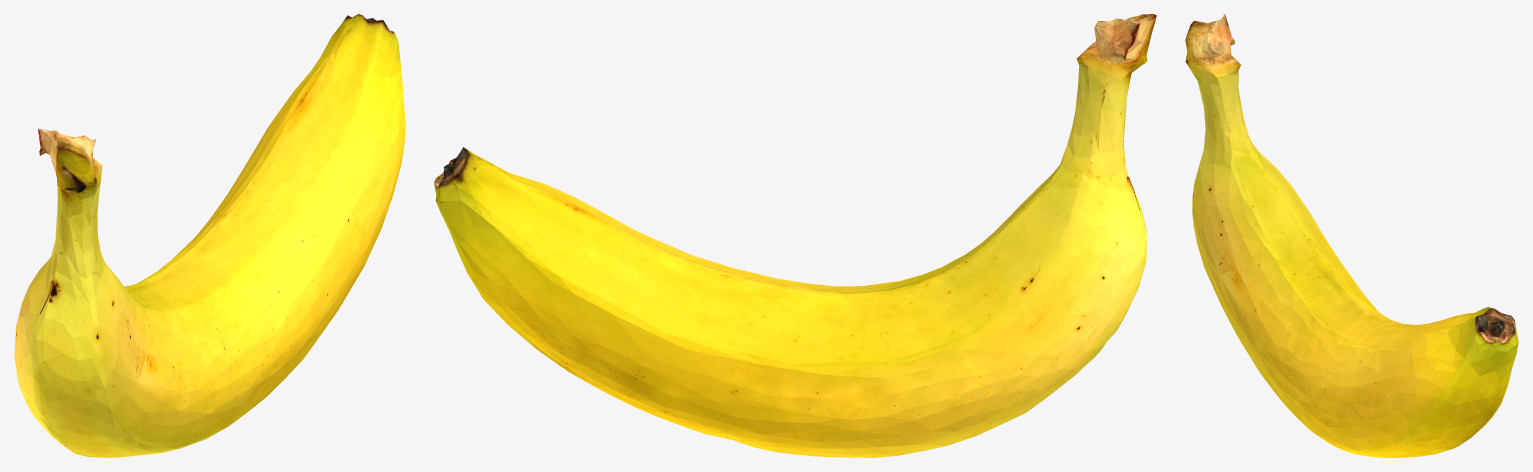
The model's file is banana-v2.glb.
3 renders of one model, left to right at view 1: azimuth 30°, elevation 25°; view 2: azimuth 150°, elevation 25°; view 3: azimuth 270°, elevation 25°, orthographic. The views are drawn at different scales.
Visible parts, largest first — view 1: banana; view 2: banana; view 3: banana.
Boxes of the visible parts, box(x1,y1,x2,y2) form: banana: box(14, 14, 405, 457); banana: box(434, 14, 1156, 457); banana: box(1185, 14, 1518, 457).
Bounding box in the file's own units: 5.85 × 4.41 × 3.99.
Materials: 1 (1 with a texture image).
